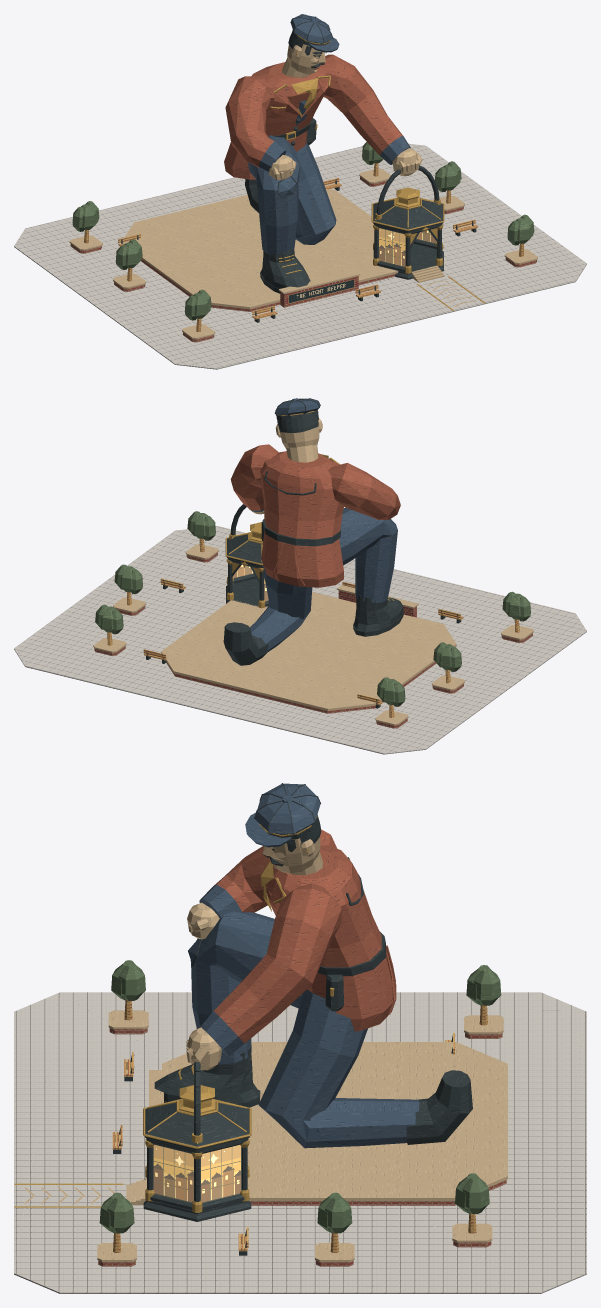
File: night-keeper.glb
3 views of the same model, one above another, from view 1: azimuth 30°, elevation 25°; view 2: azimuth 150°, elevation 25°; view 3: azimuth 270°, elevation 25° (orthographic). The views are drawn at different scales.
Parts seen in each view (by area): view 1: City paving, lantern_square__wall_limestone, keeper_figure__wall_fired_clay.001, keeper_figure__wall_indigo, lantern_pavilion__detail_cast_iron, keeper_figure__wall_fired_clay, keeper_figure__detail_cast_iron, keeper_figure__wall_limestone, lantern_pavilion__detail_yellow_ochre, lantern_square__wall_brick, lantern_pavilion__glass_story_panels, keeper_figure__detail_yellow_ochre (+6 smaller); view 2: City paving, lantern_square__wall_limestone, keeper_figure__wall_fired_clay, keeper_figure__wall_indigo, keeper_figure__detail_cast_iron, keeper_figure__wall_fired_clay.001, lantern_pavilion__detail_cast_iron, keeper_figure__wall_limestone, lantern_square__wall_brick, lantern_pavilion__detail_yellow_ochre, square_tree__ground_foliage, square_tree.003__ground_foliage (+4 smaller); view 3: City paving, lantern_square__wall_limestone, keeper_figure__wall_indigo, keeper_figure__wall_fired_clay.001, keeper_figure__wall_fired_clay, keeper_figure__detail_cast_iron, lantern_pavilion__detail_cast_iron, lantern_pavilion__glass_story_panels, keeper_figure__wall_limestone, lantern_pavilion__detail_yellow_ochre, square_tree.004__ground_foliage, square_tree.002__ground_foliage (+9 smaller).
Part boxes in pixels (bbox=[...]): City paving: bbox=[14, 143, 586, 369]; lantern_square__wall_limestone: bbox=[122, 189, 476, 309]; keeper_figure__wall_fired_clay.001: bbox=[225, 54, 410, 171]; keeper_figure__wall_indigo: bbox=[248, 15, 339, 255]; lantern_pavilion__detail_cast_iron: bbox=[373, 165, 443, 279]; keeper_figure__wall_fired_clay: bbox=[224, 62, 330, 179]; keeper_figure__detail_cast_iron: bbox=[245, 14, 333, 293]; keeper_figure__wall_limestone: bbox=[268, 44, 422, 180]; lantern_pavilion__detail_yellow_ochre: bbox=[371, 187, 444, 273]; lantern_square__wall_brick: bbox=[141, 259, 395, 311]; lantern_pavilion__glass_story_panels: bbox=[378, 228, 436, 267]; keeper_figure__detail_yellow_ochre: bbox=[270, 35, 330, 274]; City paving: bbox=[14, 526, 586, 754]; lantern_square__wall_limestone: bbox=[161, 585, 456, 710]; keeper_figure__wall_fired_clay: bbox=[260, 451, 343, 587]; keeper_figure__wall_indigo: bbox=[250, 398, 397, 651]; keeper_figure__detail_cast_iron: bbox=[223, 398, 403, 665]; keeper_figure__wall_fired_clay.001: bbox=[230, 444, 400, 520]; lantern_pavilion__detail_cast_iron: bbox=[226, 504, 269, 606]; keeper_figure__wall_limestone: bbox=[249, 418, 322, 514]; lantern_square__wall_brick: bbox=[166, 590, 436, 713]; lantern_pavilion__detail_yellow_ochre: bbox=[225, 522, 265, 608]; square_tree__ground_foliage: bbox=[502, 591, 530, 621]; square_tree.003__ground_foliage: bbox=[95, 604, 123, 634]; City paving: bbox=[14, 992, 586, 1293]; lantern_square__wall_limestone: bbox=[24, 1042, 507, 1203]; keeper_figure__wall_indigo: bbox=[188, 783, 419, 1148]; keeper_figure__wall_fired_clay.001: bbox=[199, 829, 341, 1055]; keeper_figure__wall_fired_clay: bbox=[268, 845, 396, 1031]; keeper_figure__detail_cast_iron: bbox=[154, 783, 472, 1144]; lantern_pavilion__detail_cast_iron: bbox=[143, 1062, 251, 1221]; lantern_pavilion__glass_story_panels: bbox=[153, 1144, 241, 1203]; keeper_figure__wall_limestone: bbox=[186, 837, 323, 1070]; lantern_pavilion__detail_yellow_ochre: bbox=[143, 1085, 251, 1212]; square_tree.004__ground_foliage: bbox=[317, 1192, 352, 1233]; square_tree.002__ground_foliage: bbox=[466, 965, 501, 1005].
Bounding box in the file's own units: 62 × 34.34 × 50.
Materials: 11 (11 with a texture image).
